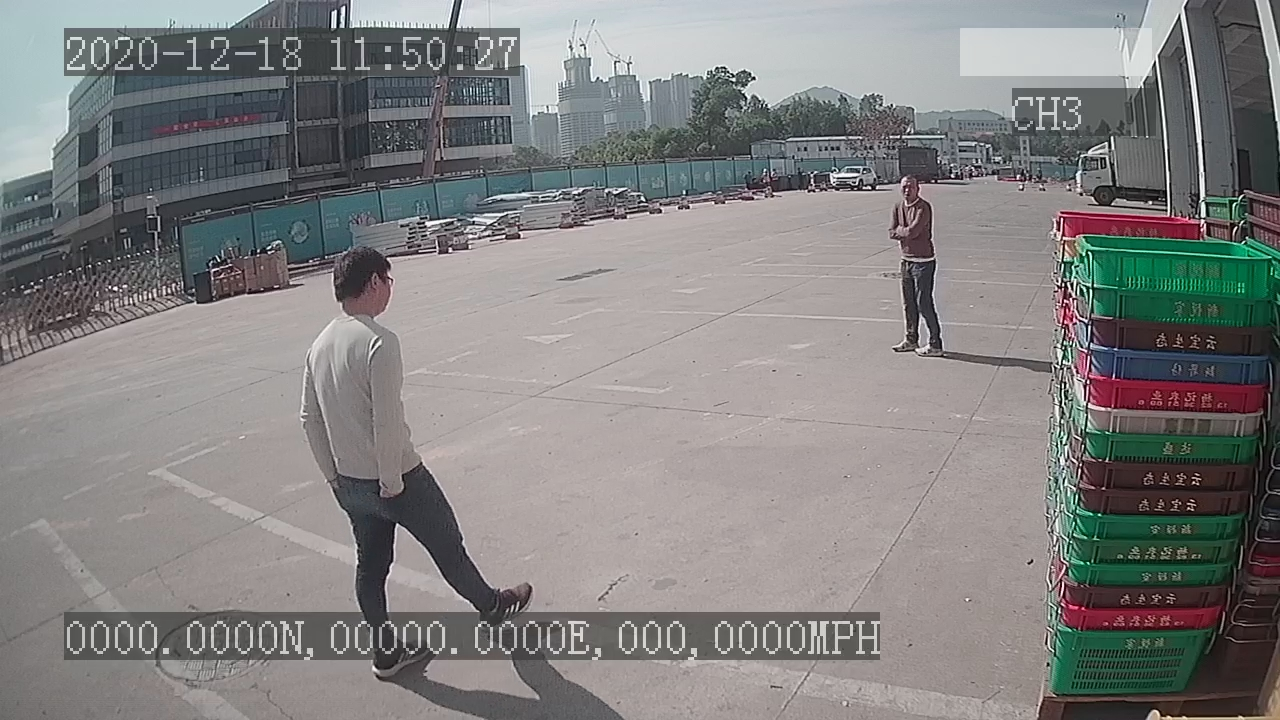person: (884, 174, 952, 360)
